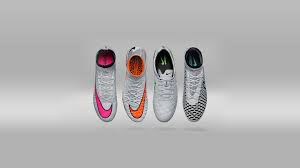nike: (128, 79, 148, 119), (94, 81, 113, 119)
